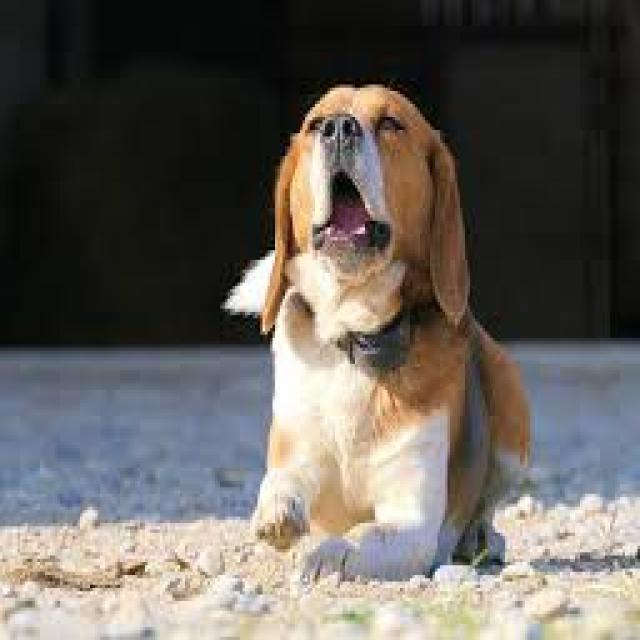Dog: (217, 75, 535, 591)
